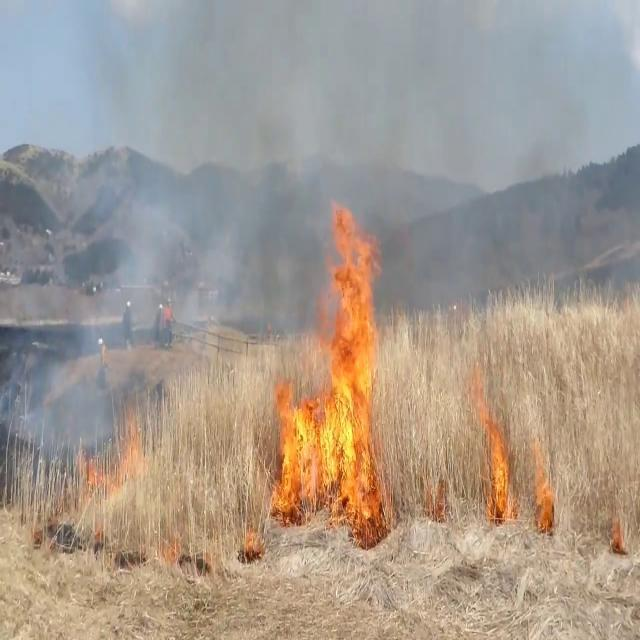Fire: (270, 189, 390, 522), (469, 352, 514, 522)
Smoke: (64, 0, 446, 386)
